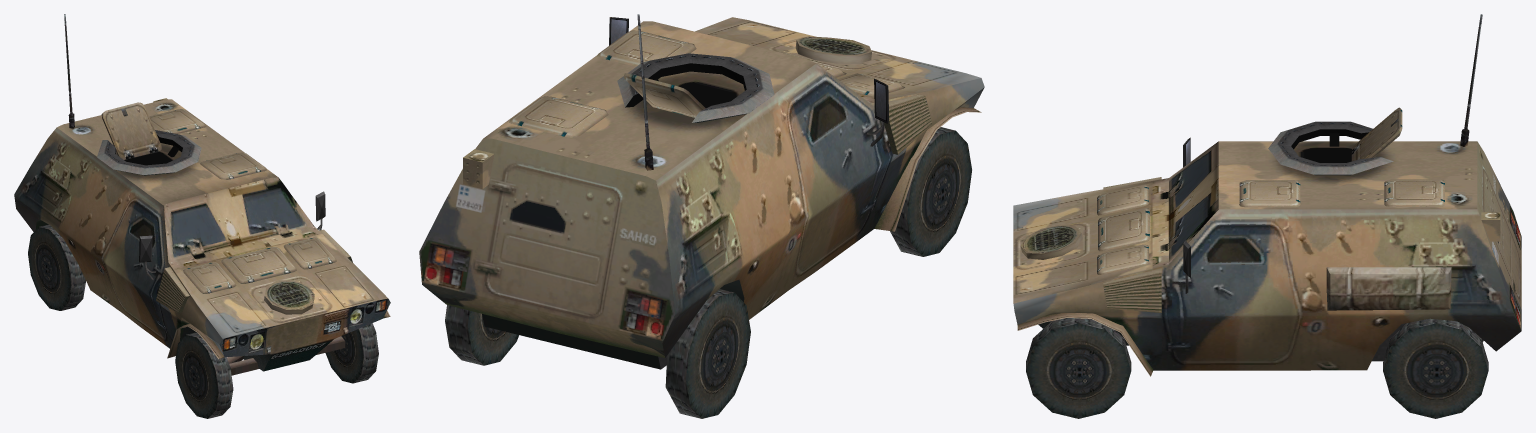
The model's file is vbl01.glb.
3 views of the same model, side by side, from view 1: azimuth 30°, elevation 25°; view 2: azimuth 150°, elevation 25°; view 3: azimuth 270°, elevation 25° (orthographic). The views are drawn at different scales.
Visible parts, largest first — view 1: _vbl01; view 2: _vbl01; view 3: _vbl01.
Boxes of the visible parts, x1,y1,x2,y2 form: _vbl01: (14,14,390,418); _vbl01: (419,14,984,418); _vbl01: (1013,14,1521,418).
Bounding box in the file's own units: 2.5 × 3.5 × 4.88.
Materials: 1 (1 with a texture image).
